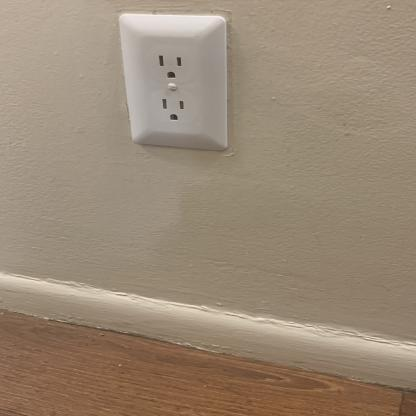OUTLET: (118, 11, 231, 152)
